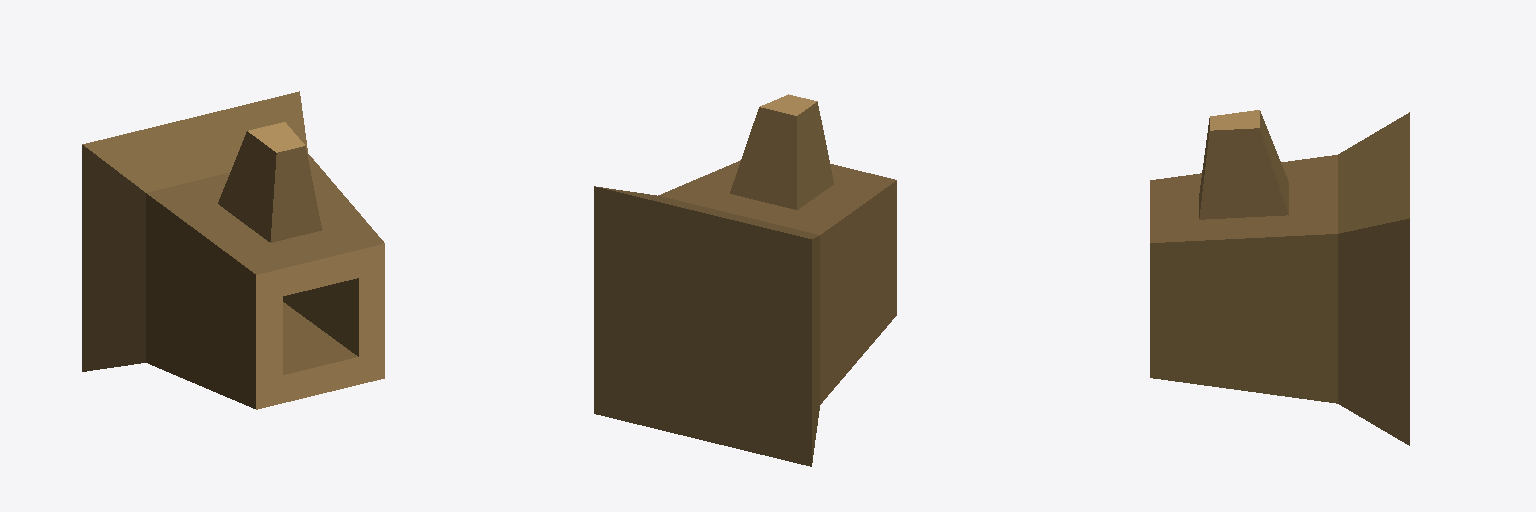
File: stump.obj
3 renders of one model, left to right at view 1: azimuth 30°, elevation 25°; view 2: azimuth 150°, elevation 25°; view 3: azimuth 270°, elevation 25°, orthographic.
Parts seen in each view (by area): view 1: Mesh1_Trunk_Alt_Model; view 2: Mesh1_Trunk_Alt_Model; view 3: Mesh1_Trunk_Alt_Model.
Boxes of the visible parts, x1=… form: Mesh1_Trunk_Alt_Model: x1=82, y1=91, x2=384, y2=409; Mesh1_Trunk_Alt_Model: x1=594, y1=94, x2=896, y2=466; Mesh1_Trunk_Alt_Model: x1=1150, y1=110, x2=1409, y2=445.
Bounding box in the file's own units: 5.41 × 6.51 × 5.58.